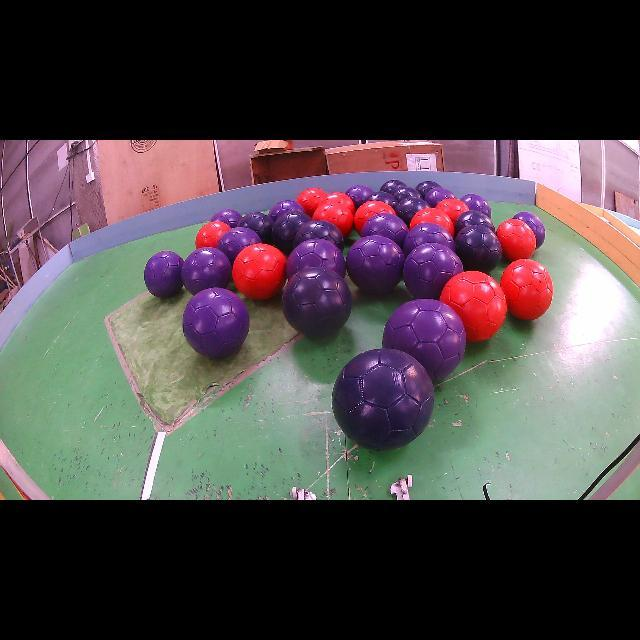B: (331, 349, 434, 450), (282, 268, 352, 338), (455, 224, 502, 272), (271, 211, 311, 255), (294, 220, 344, 252), (238, 211, 274, 244), (395, 196, 430, 226), (454, 210, 496, 234), (366, 191, 398, 209), (391, 185, 421, 202), (415, 181, 440, 198), (380, 180, 405, 194)
P: (382, 299, 466, 381), (182, 288, 250, 359), (346, 235, 405, 294), (404, 242, 464, 299), (286, 239, 345, 280), (181, 248, 231, 295), (144, 250, 184, 298), (402, 222, 456, 256), (360, 214, 409, 248), (216, 228, 261, 265), (514, 211, 545, 248), (269, 200, 305, 221), (460, 194, 491, 218), (345, 185, 374, 210), (210, 209, 242, 228), (425, 188, 455, 208)
R: (440, 271, 508, 342), (500, 259, 554, 320), (232, 244, 286, 300), (496, 219, 536, 261), (312, 201, 354, 238), (354, 200, 395, 233), (410, 208, 454, 236), (195, 221, 230, 248), (318, 192, 356, 216), (296, 188, 326, 216), (436, 199, 469, 222)
